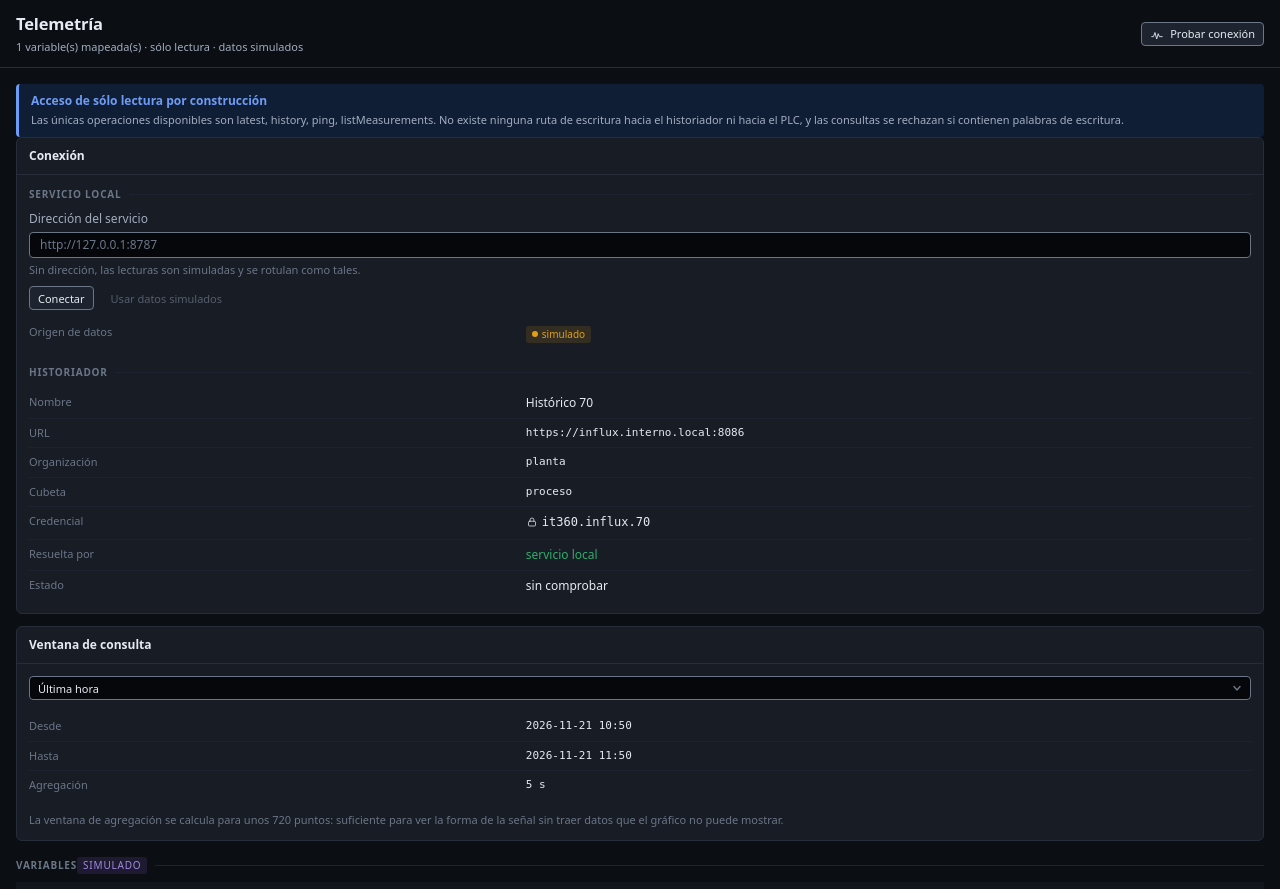
panel de conexión de telemetría › no acepta una dirección con credenciales y explica por qué
In the field labelled "Dirección del servicio": x=640, y=245 [38,235,1242,254], type "http://admin:secreto@10.4.2.9:8787"
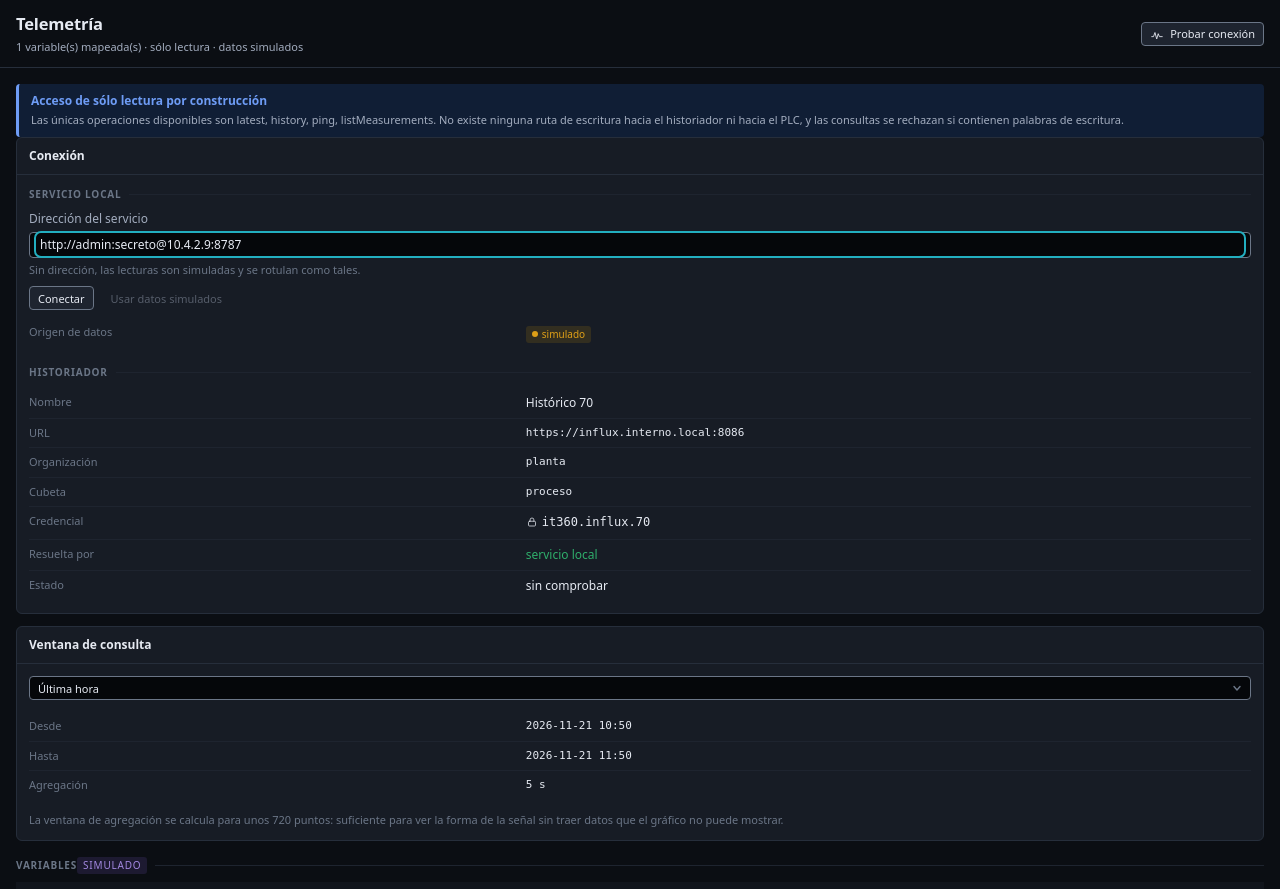
Click the button "Conectar": x=61, y=298 [29,286,94,310]
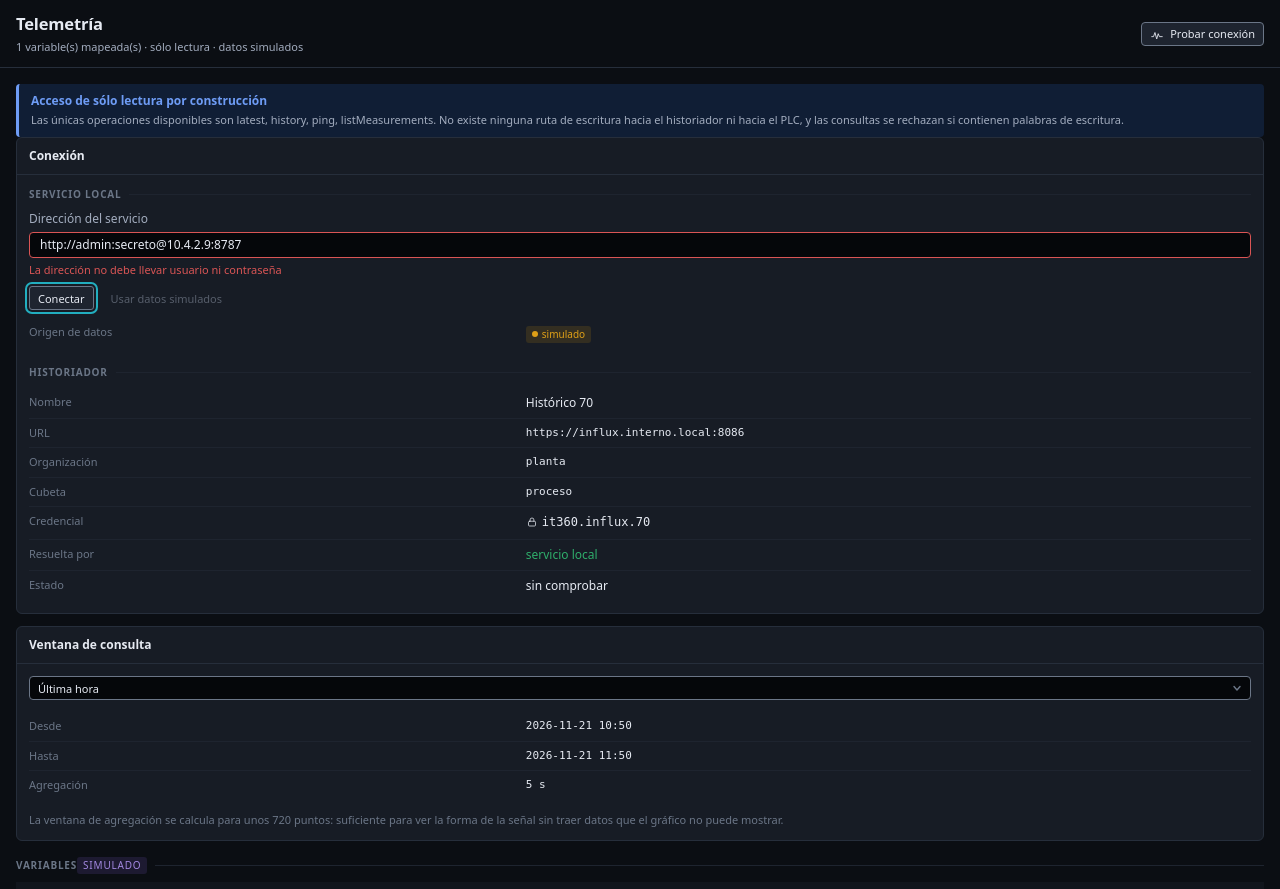
Check: the message shows "usuario", box [29,262,282,277]
